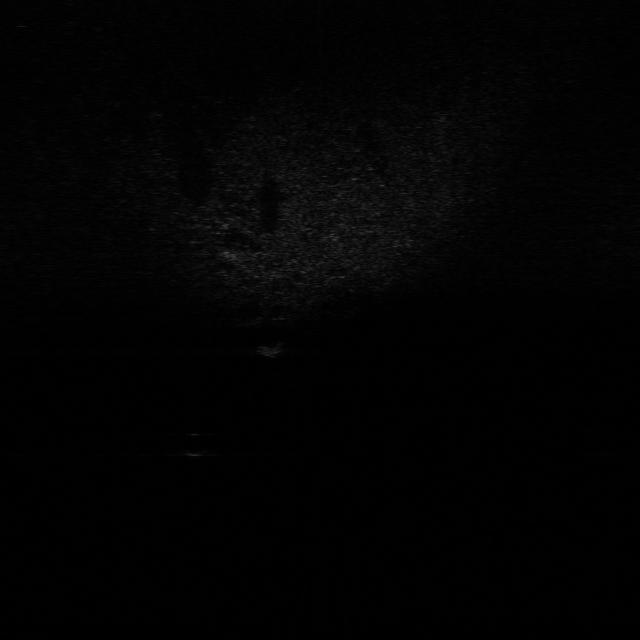ball: (172, 427, 217, 460)
cube: (253, 336, 291, 361)
